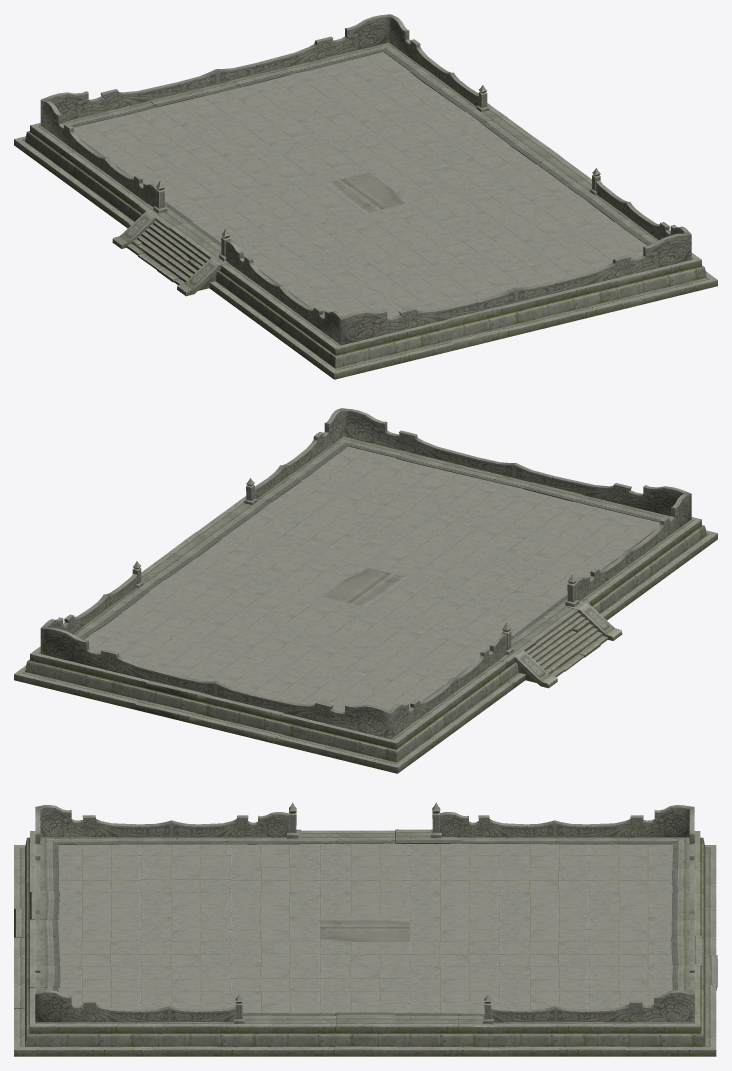
Rendered from hs_leitai01_53_33_2554out.fbx.
3 views of the same model, one above another, from view 1: azimuth 30°, elevation 25°; view 2: azimuth 150°, elevation 25°; view 3: azimuth 270°, elevation 25° (orthographic). The views are drawn at different scales.
Parts seen in each view (by area): view 1: hs_leitai01; view 2: hs_leitai01; view 3: hs_leitai01.
Part boxes in pixels (x1,y1,x2,y2): hs_leitai01: [14, 14, 717, 379]; hs_leitai01: [14, 408, 717, 773]; hs_leitai01: [14, 802, 717, 1056].
Size of the model in its own units: 28.86 by 3.64 by 39.15.
